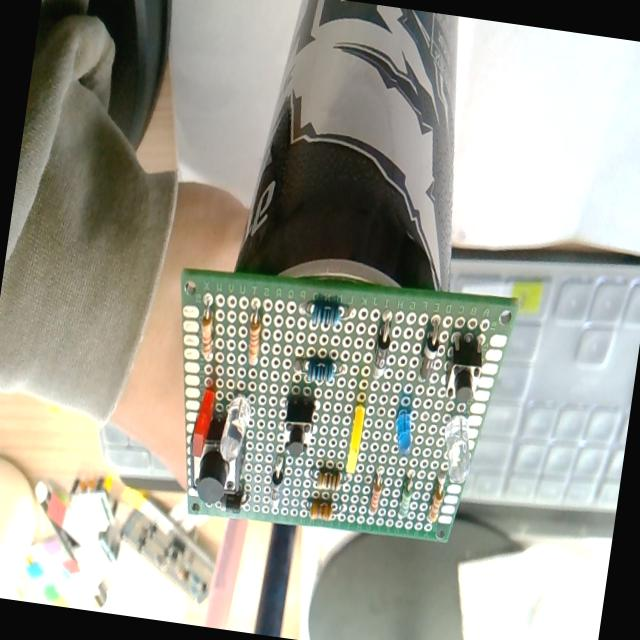diode: (371, 311, 395, 383), (215, 483, 252, 525), (418, 318, 442, 382), (266, 454, 288, 514)
led: (217, 391, 253, 465), (190, 388, 216, 458), (344, 404, 366, 476), (392, 409, 416, 458)
resistor: (196, 296, 266, 372), (438, 412, 478, 488), (196, 296, 222, 362), (243, 303, 266, 366), (308, 302, 342, 332), (304, 358, 337, 387), (427, 478, 446, 524), (397, 472, 416, 518), (315, 467, 342, 493), (369, 474, 384, 514), (310, 500, 334, 522)
switch: (186, 424, 248, 509), (442, 332, 485, 407), (278, 397, 318, 460)
